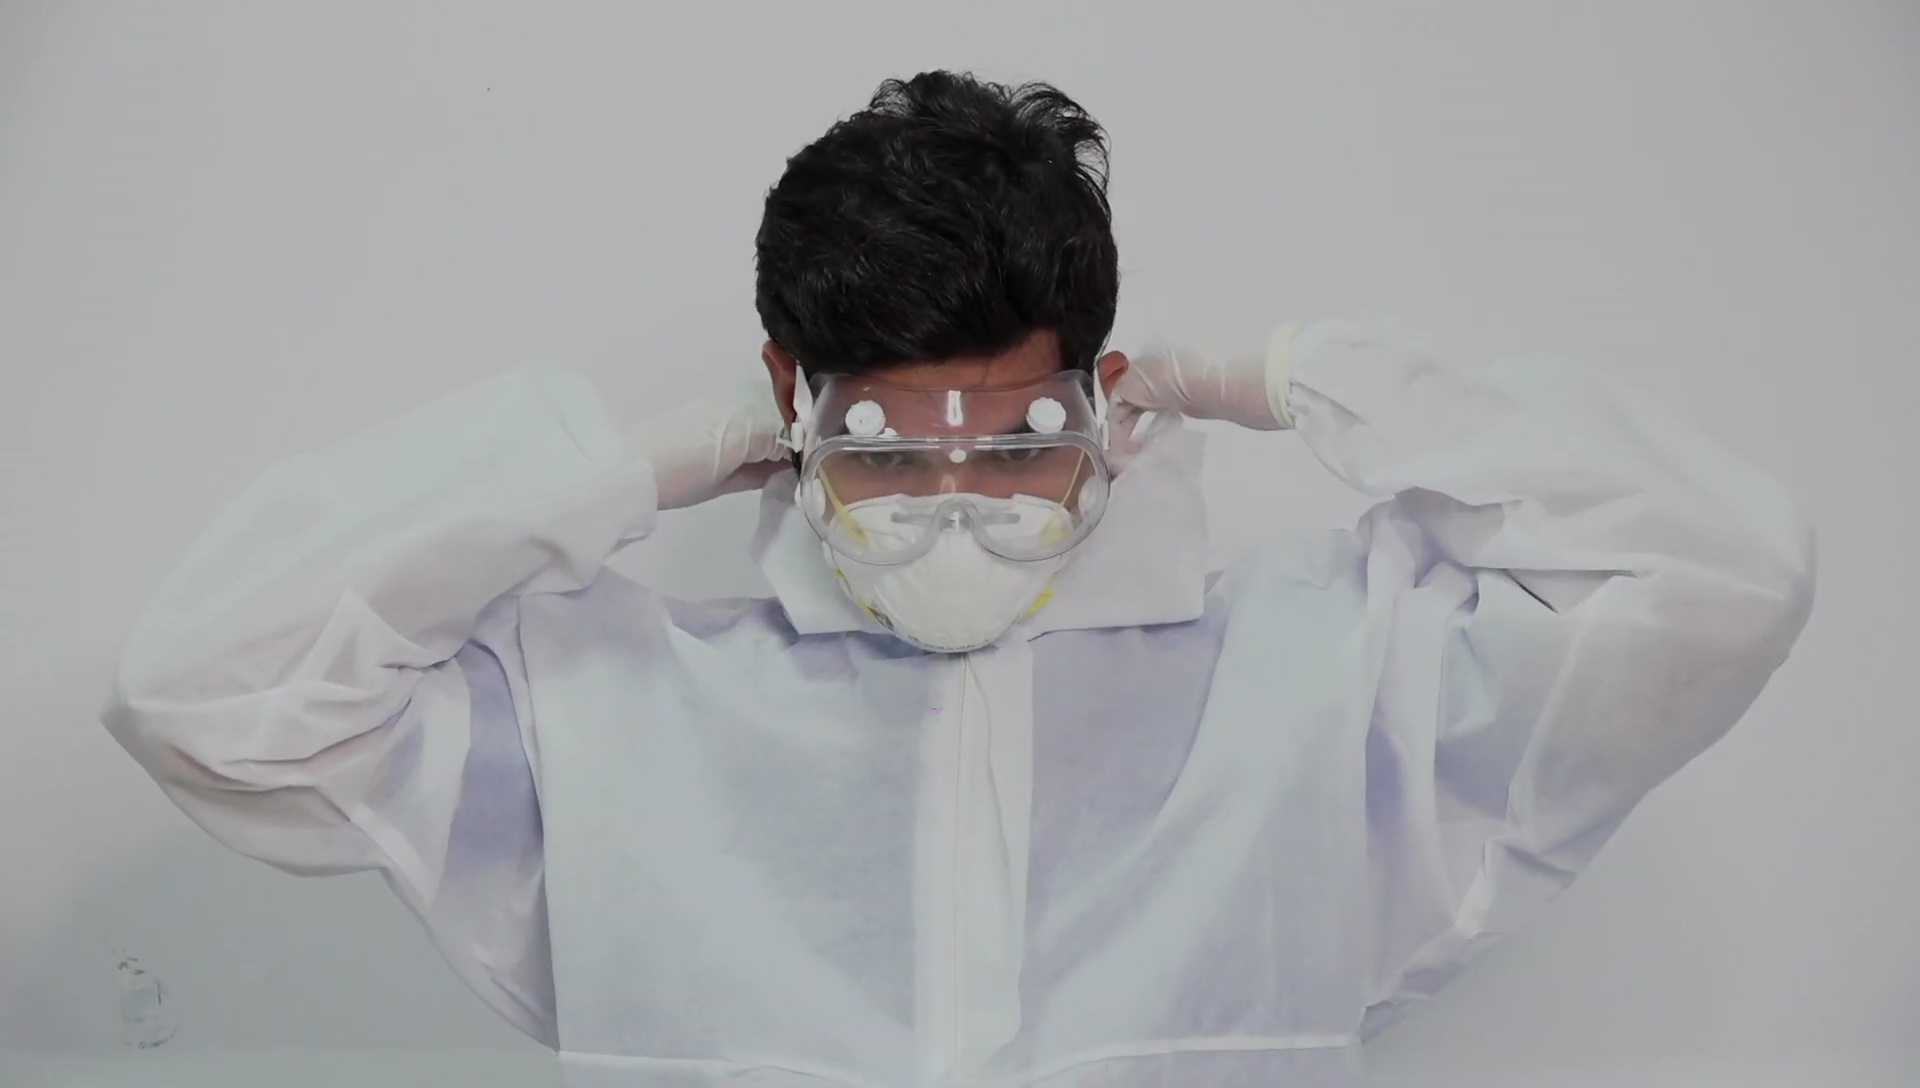Coverall: (104, 319, 1820, 1088)
Gloves: (1100, 318, 1292, 446), (634, 378, 793, 512)
Goggles: (788, 365, 1114, 571)
with_mask: (820, 435, 1079, 651)
